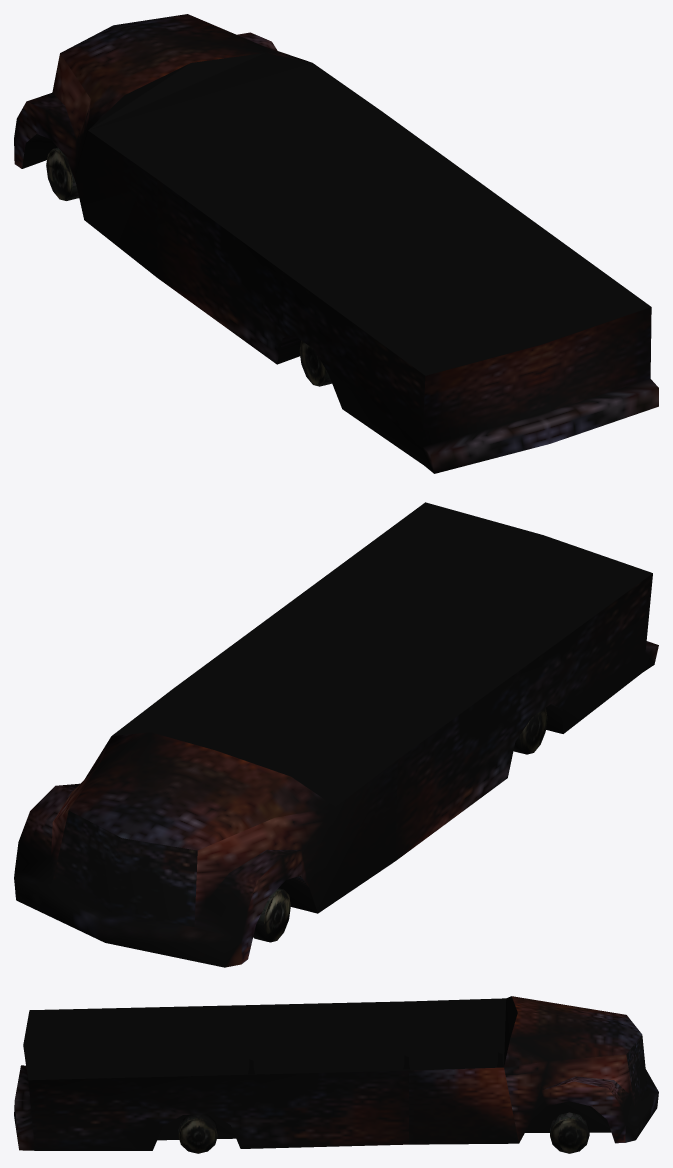
The model's file is CivBus_Wrecked.glb.
3 renders of one model, top to bottom at view 1: azimuth 30°, elevation 25°; view 2: azimuth 150°, elevation 25°; view 3: azimuth 270°, elevation 25°, orthographic. The views are drawn at different scales.
Visible parts, largest first — view 1: CIVBUS_WRECKED; view 2: CIVBUS_WRECKED; view 3: CIVBUS_WRECKED.
Part boxes in pixels (x1,y1,x2,y2): CIVBUS_WRECKED: (14,14,658,473); CIVBUS_WRECKED: (14,502,658,967); CIVBUS_WRECKED: (14,996,658,1153).
Size of the model in its own units: 2.77 by 1.57 by 8.8.
Materials: 2 (2 with a texture image).
